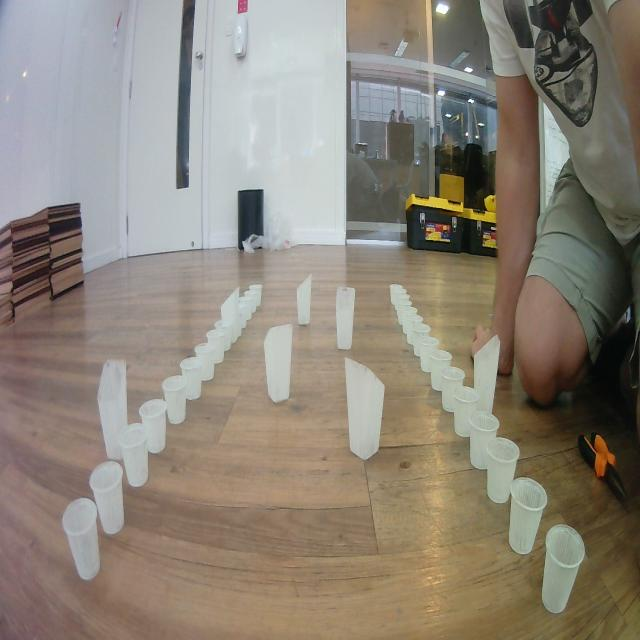erva_daninha: (344, 356, 386, 462), (98, 358, 128, 462), (264, 323, 294, 404), (473, 334, 501, 417), (336, 287, 356, 351), (220, 286, 240, 344), (296, 273, 313, 327)
planta: (542, 523, 585, 615), (61, 496, 100, 581), (508, 476, 548, 556), (89, 461, 125, 535), (486, 437, 520, 505), (118, 422, 149, 488), (467, 410, 500, 470), (139, 398, 167, 455), (453, 385, 481, 438), (162, 376, 188, 425), (440, 367, 466, 412), (180, 356, 203, 401), (430, 349, 452, 391), (194, 342, 216, 382), (412, 322, 432, 358), (206, 328, 225, 365), (420, 337, 440, 372), (406, 314, 423, 346), (216, 319, 232, 352), (402, 305, 418, 334), (398, 299, 412, 326), (394, 294, 410, 316), (238, 297, 252, 320), (249, 283, 263, 306), (392, 288, 406, 311), (389, 283, 403, 305), (244, 289, 257, 312), (237, 305, 248, 329), (235, 314, 242, 337)
